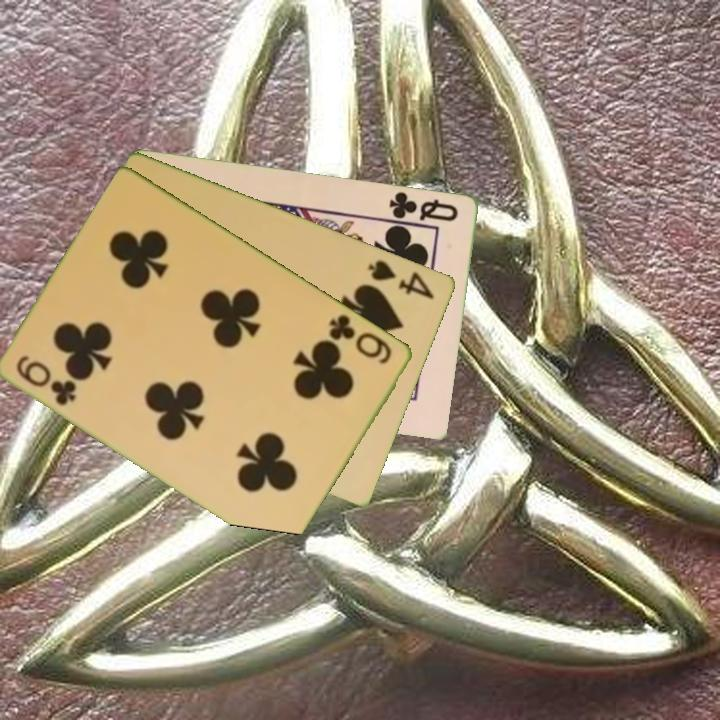4s: (364, 256, 438, 302)
6c: (325, 310, 396, 367), (13, 351, 80, 409)
Qc: (386, 187, 462, 224)
